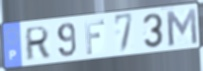3: (141, 12, 164, 50)
7: (113, 12, 134, 57)
9: (55, 22, 77, 59)
F: (84, 19, 106, 56)
M: (164, 7, 200, 48)
R: (24, 25, 51, 63)
